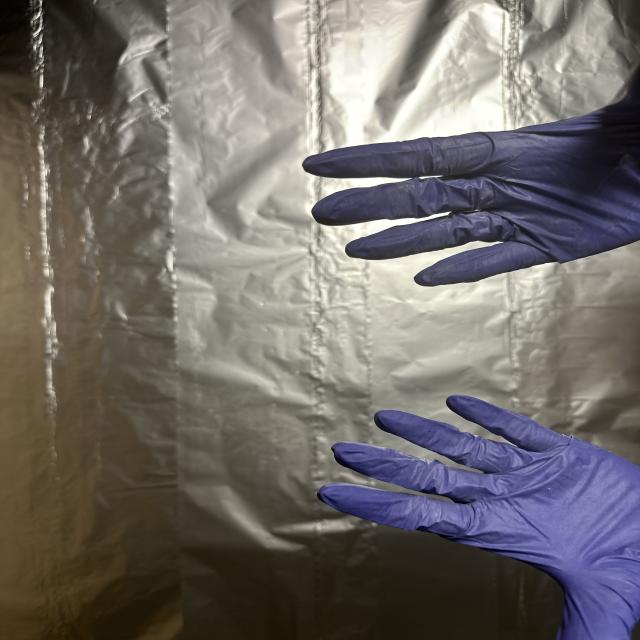gloves_contaminated: (318, 395, 640, 640), (303, 70, 640, 287)
